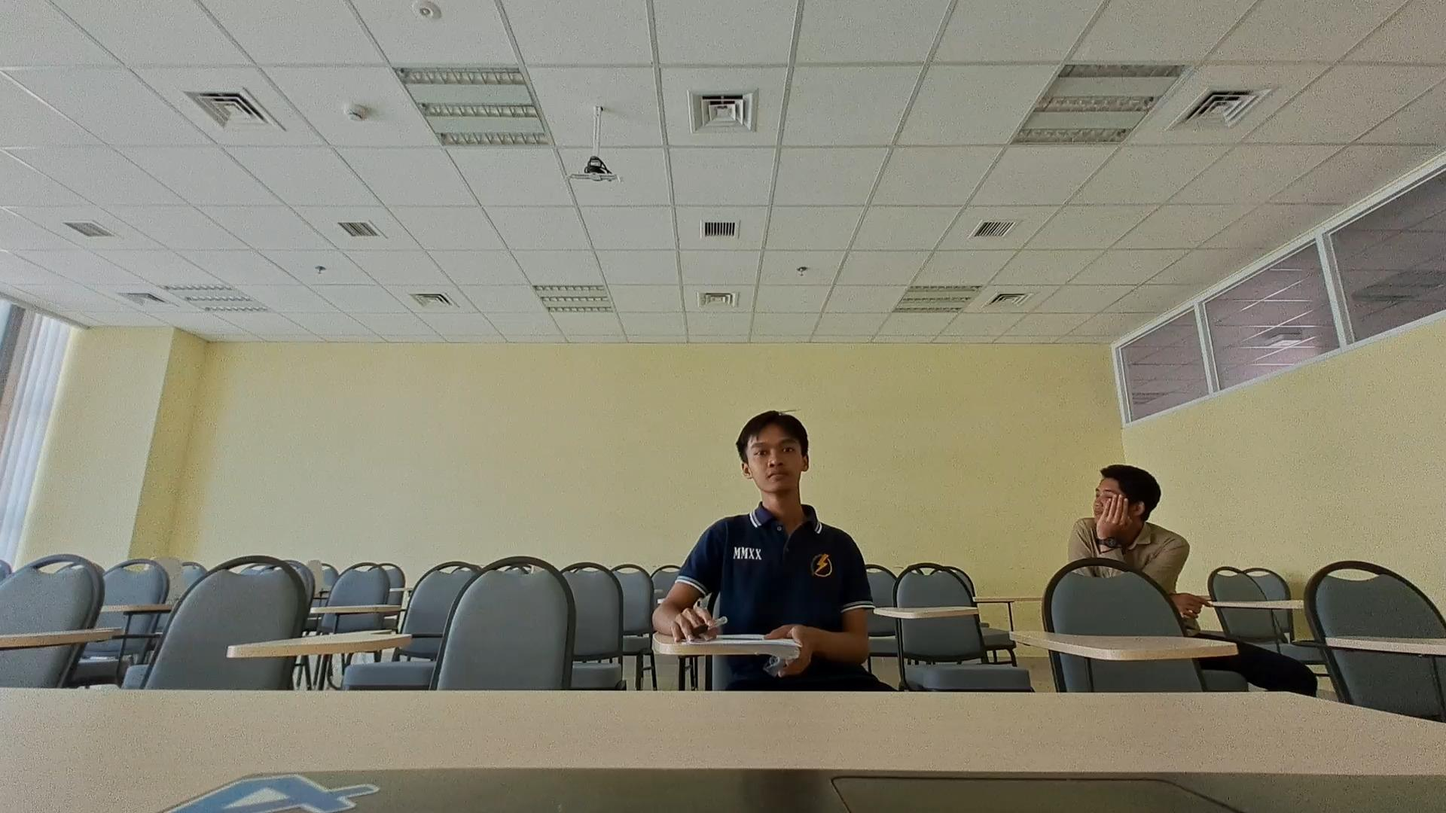study: (646, 397, 877, 691), (1049, 442, 1211, 640)
